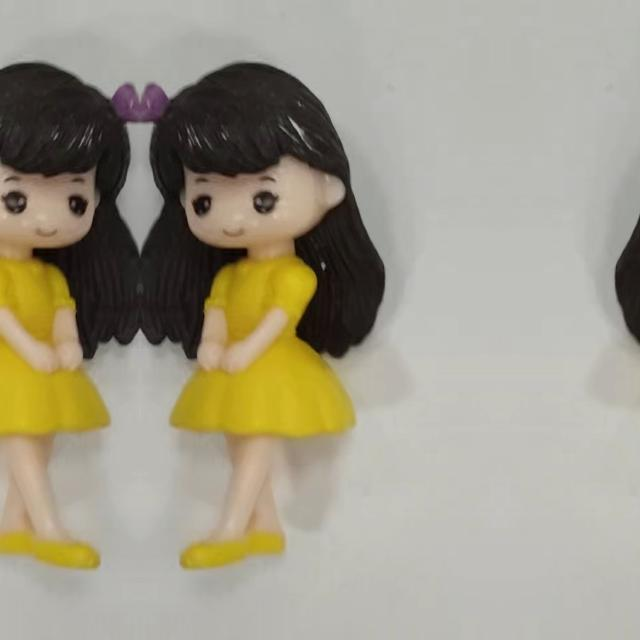woman dress: (181, 253, 353, 544), (0, 253, 99, 544)
woman head: (140, 56, 390, 264), (0, 56, 139, 264), (610, 56, 640, 264)
